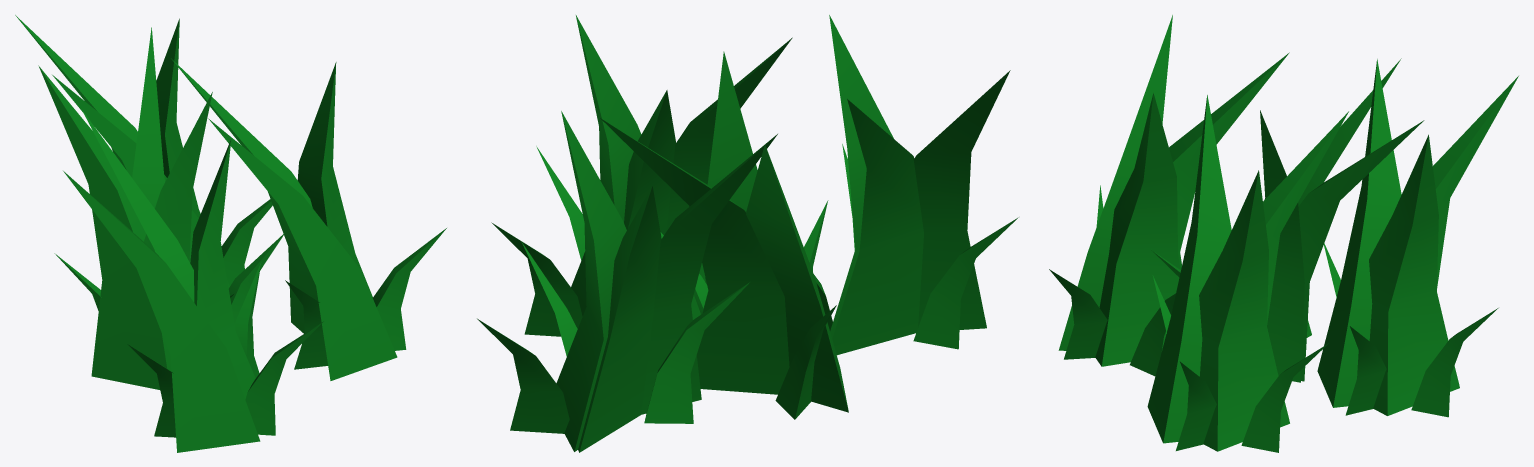
Rendered from arbusto.fbx.
3 views of the same model, side by side, from view 1: azimuth 30°, elevation 25°; view 2: azimuth 150°, elevation 25°; view 3: azimuth 270°, elevation 25° (orthographic). The views are drawn at different scales.
Visible parts, largest first — view 1: Pyramid004; view 2: Pyramid004; view 3: Pyramid004.
Part boxes in pixels (x1,y1,x2,y2): Pyramid004: (15,15,446,452); Pyramid004: (477,15,1018,452); Pyramid004: (1049,15,1518,452).
Bounding box in the file's own units: 0.9587 × 0.6248 × 0.9976.
